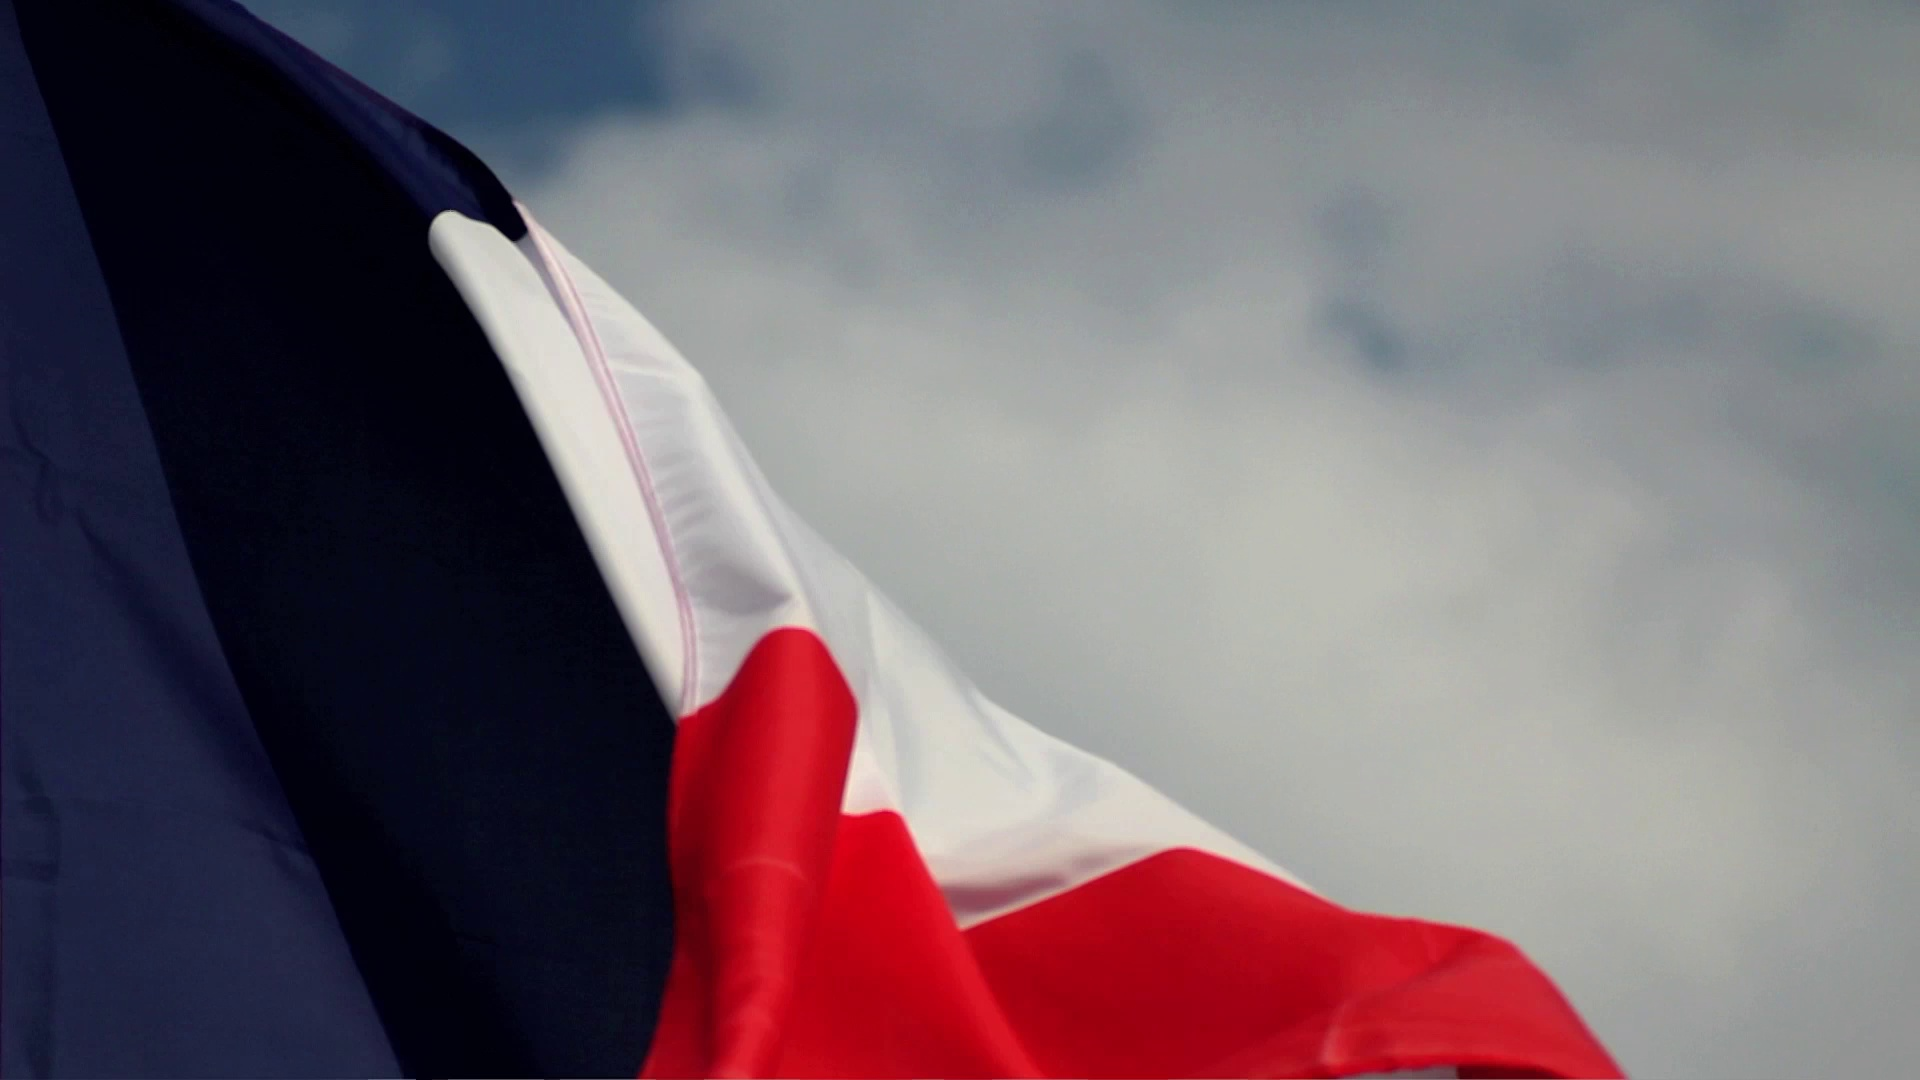French Flag: (1, 1, 1614, 1080)
